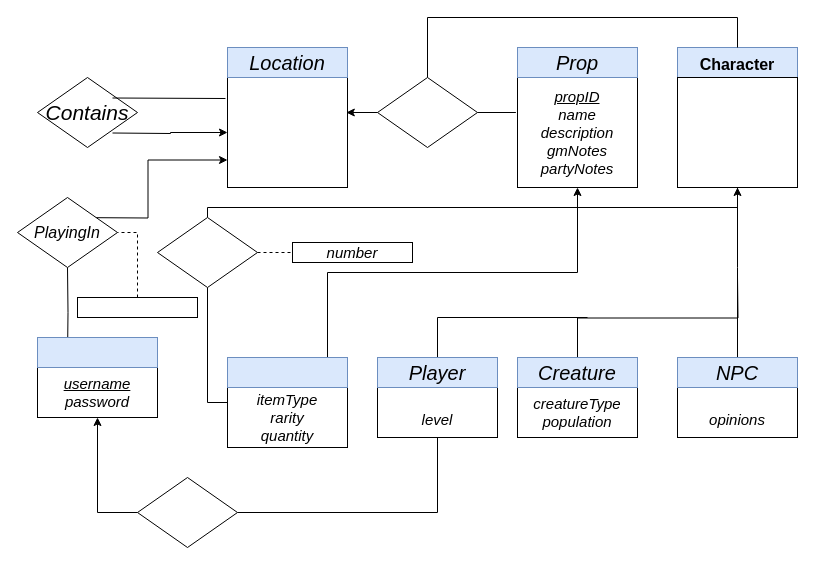
This 815x565 diagram has some shape labels left out. Here are the shapes that lost their labels. From the top down, the centre of each, then its label:
At [287,132]: "locationID name description gmNotes partyNotes".
At [427,112]: "IsAt".
At [737,132]: "characterID name race/species description gmNotes partyNotes".
At [207,252]: "OwnedBy".
At [137,307]: "permissions".
At [97,352]: "Users".
At [287,372]: "Item".
At [187,512]: "Plays".
